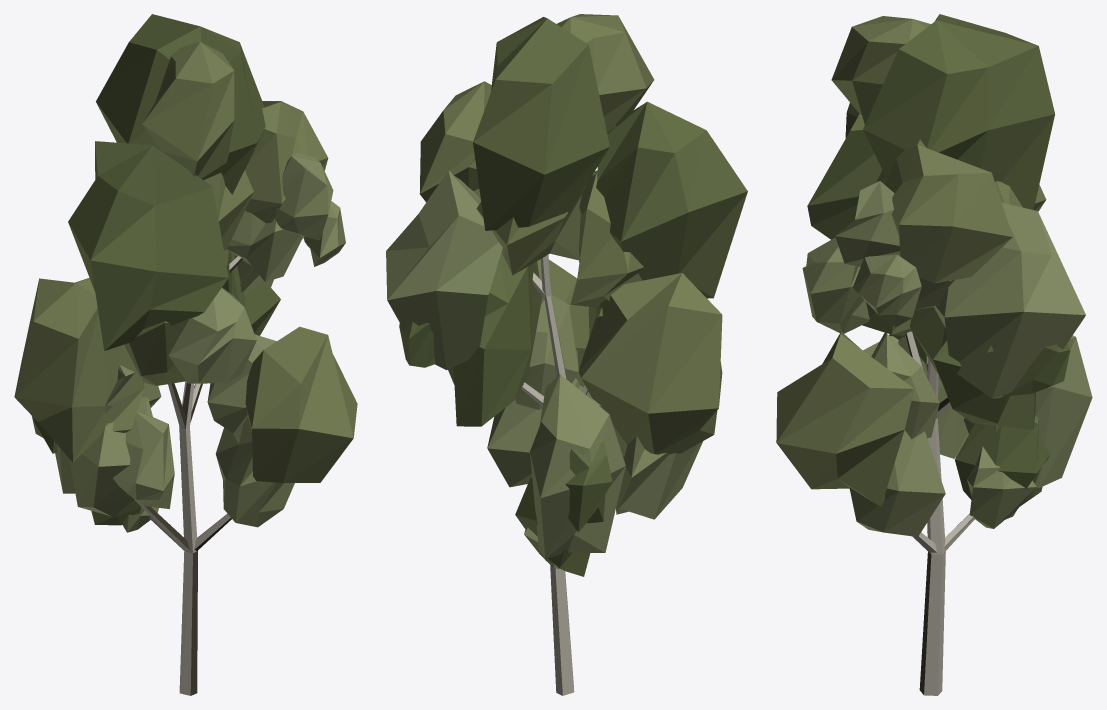
3 views of the same model, side by side, from view 1: azimuth 30°, elevation 25°; view 2: azimuth 150°, elevation 25°; view 3: azimuth 270°, elevation 25° (orthographic). The views are drawn at different scales.
Parts seen in each view (by area): view 1: birch; view 2: birch; view 3: birch.
Part boxes in pixels (x1,y1,x2,y2): birch: [14, 14, 357, 695]; birch: [386, 14, 747, 695]; birch: [776, 14, 1092, 695].
Size of the model in its own units: 9.65 by 20.61 by 8.68.
